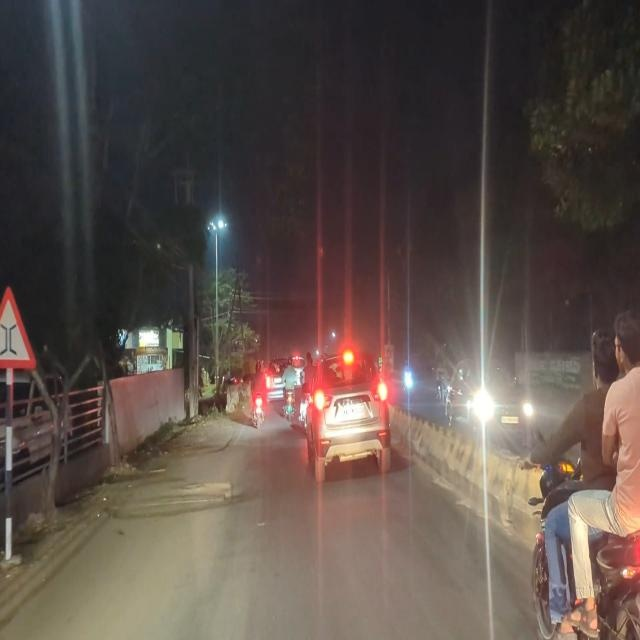bien_nguy_hiem: (0, 277, 39, 375)
